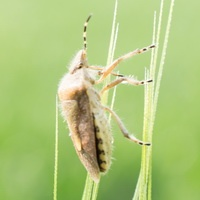insect: (58, 17, 155, 182)
